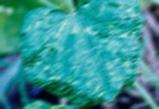Tomato leaf mosaic virus: (21, 0, 143, 105)
